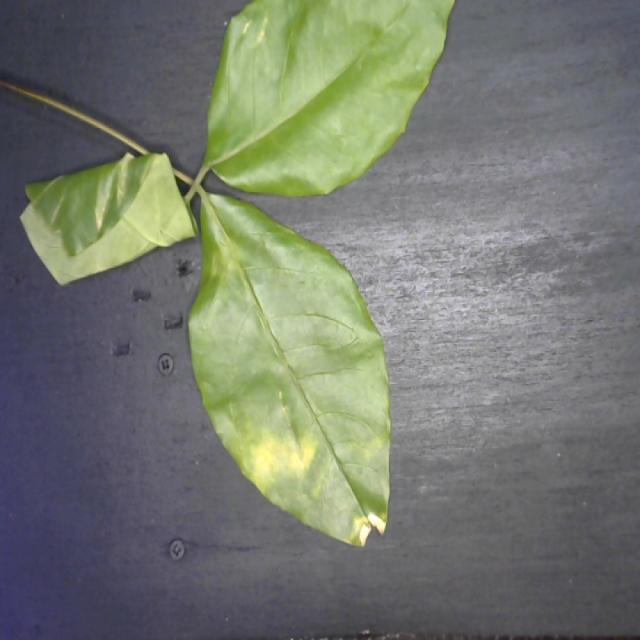biodegradable: (0, 0, 456, 547)
